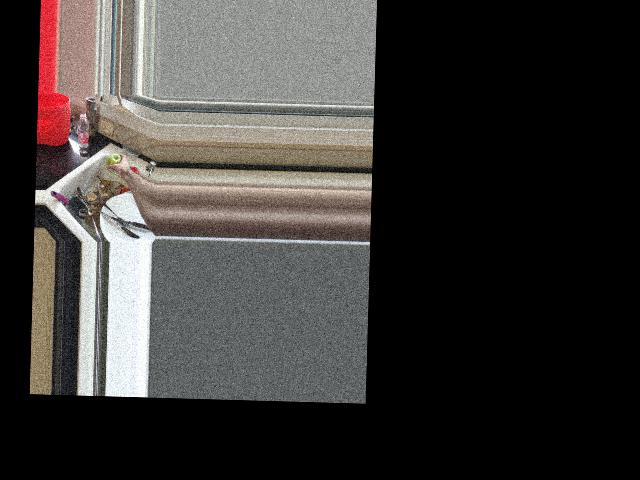apple: (106, 151, 121, 169)
